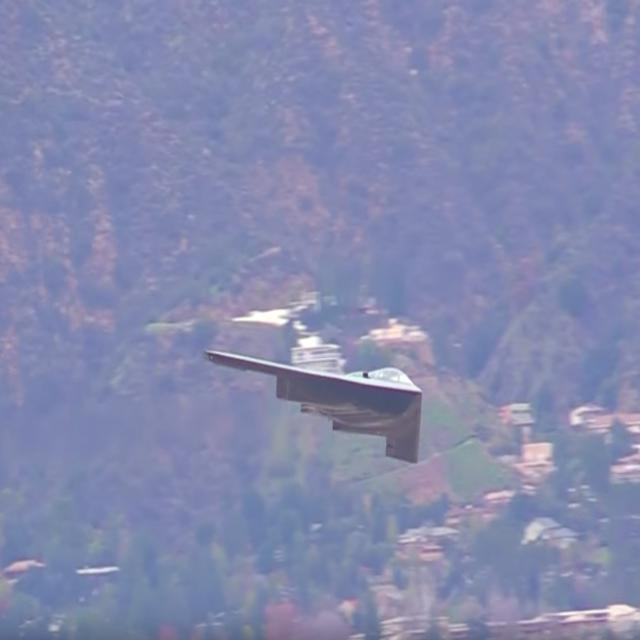MIL_Plane: (266, 337, 359, 452)
